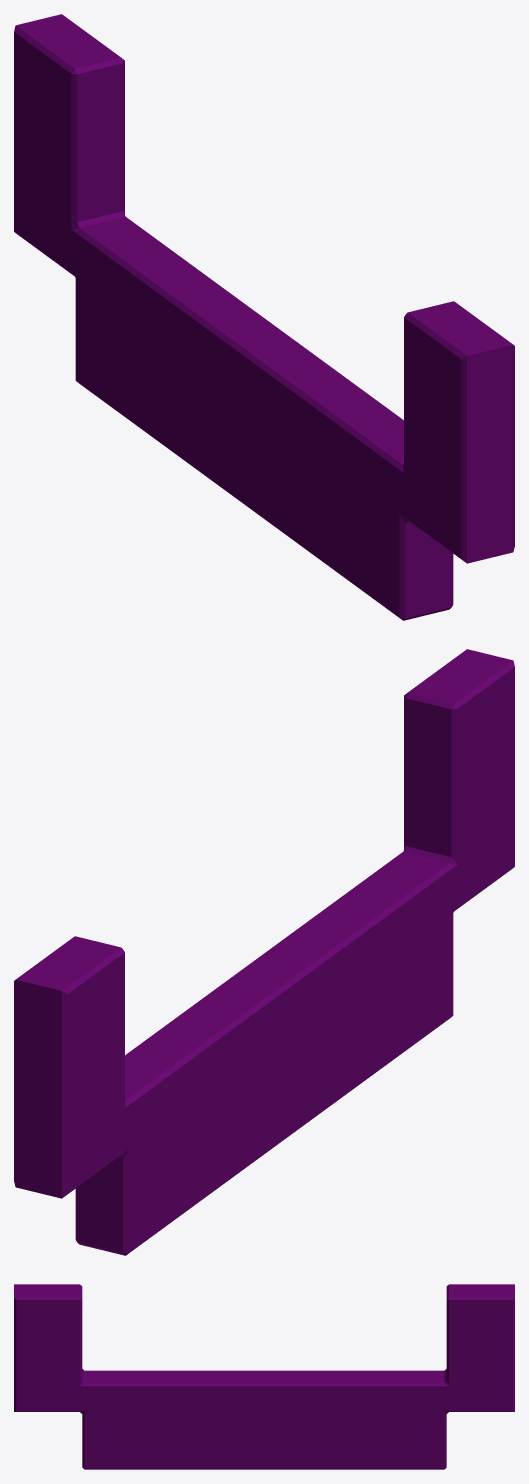
File: Escudo 1.fbx
The picture shows the model from 3 angles, top to bottom: view 1: azimuth 30°, elevation 25°; view 2: azimuth 150°, elevation 25°; view 3: azimuth 270°, elevation 25°; orthographic projection. The views are drawn at different scales.
Parts seen in each view (by area): view 1: Escudo 2; view 2: Escudo 2; view 3: Escudo 2.
Boxes of the visible parts, <box> form: Escudo 2: <box>14,14,514,620</box>; Escudo 2: <box>14,649,514,1255</box>; Escudo 2: <box>14,1284,514,1469</box>.
Size of the model in its own units: 10.23 by 56.57 by 149.
